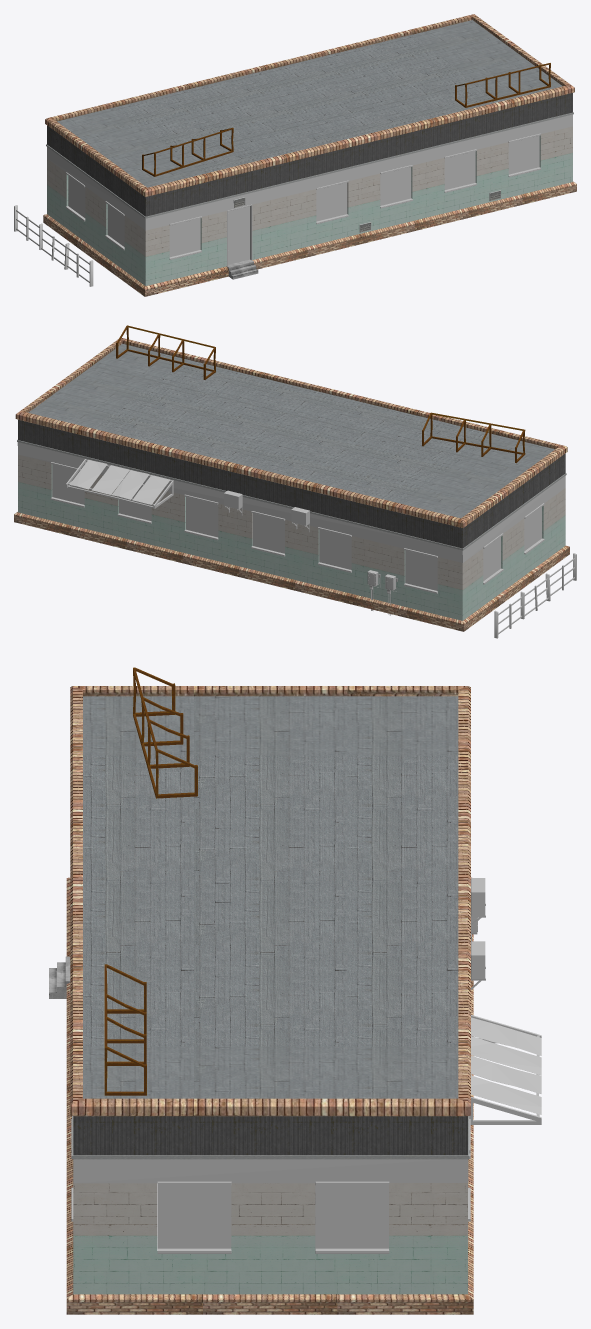
The model's file is building01.fbx.
3 views of the same model, one above another, from view 1: azimuth 30°, elevation 25°; view 2: azimuth 150°, elevation 25°; view 3: azimuth 270°, elevation 25° (orthographic). The views are drawn at different scales.
Visible parts, largest first — view 1: building_Roof, buildingMainwalls, mossDecal, wallbaseboard, industrialDoor, metalFrame, industrialWindow-Small.003, industrialWindow-Small.002, industrialWindow-Small, industrialWindow-Small.001, industrialWindow-Small.010, emptyBillboard.001 (+5 smaller); view 2: building_Roof, buildingMainwalls, wallbaseboard, mossDecal, metalFrame, industrialWindow-Small.006, industrialWindow-Small.007, industrialWindow-Small.008, industrialWindow-Small.009, emptyBillboard.001, emptyBillboard, industrialWindow-Small.004 (+9 smaller); view 3: building_Roof, buildingMainwalls, wallbaseboard, mossDecal, industrialWindow-Small.013, industrialWindow-Small.014, emptyBillboard, metalFrame, emptyBillboard.001, metalSheet.002, metalSheet, metalSheet.003 (+2 smaller).
Boxes of the visible parts, <box> form: building_Roof: <box>45,14,574,197</box>; buildingMainwalls: <box>47,93,572,285</box>; mossDecal: <box>47,114,572,230</box>; wallbaseboard: <box>43,181,576,296</box>; industrialDoor: <box>227,204,252,266</box>; metalFrame: <box>46,112,573,218</box>; industrialWindow-Small.003: <box>508,133,540,177</box>; industrialWindow-Small.002: <box>444,149,476,192</box>; industrialWindow-Small: <box>316,180,348,224</box>; industrialWindow-Small.001: <box>380,165,412,208</box>; industrialWindow-Small.010: <box>169,216,201,259</box>; emptyBillboard.001: <box>455,63,550,107</box>; building_Roof: <box>15,338,567,527</box>; buildingMainwalls: <box>18,419,565,620</box>; wallbaseboard: <box>14,512,569,631</box>; mossDecal: <box>17,442,565,562</box>; metalFrame: <box>17,439,566,550</box>; industrialWindow-Small.006: <box>184,494,218,540</box>; industrialWindow-Small.007: <box>251,511,285,556</box>; industrialWindow-Small.008: <box>318,527,351,572</box>; industrialWindow-Small.009: <box>404,548,437,593</box>; emptyBillboard.001: <box>116,325,215,379</box>; emptyBillboard: <box>422,412,525,463</box>; industrialWindow-Small.004: <box>50,462,84,507</box>; building_Roof: <box>70,686,470,1116</box>; buildingMainwalls: <box>73,1116,467,1294</box>; wallbaseboard: <box>66,877,473,1314</box>; mossDecal: <box>73,1159,468,1183</box>; industrialWindow-Small.013: <box>157,1181,231,1253</box>; industrialWindow-Small.014: <box>315,1181,389,1253</box>; emptyBillboard: <box>133,667,197,798</box>; metalFrame: <box>72,1116,469,1159</box>; emptyBillboard.001: <box>104,964,146,1095</box>; metalSheet.002: <box>471,1075,541,1114</box>; metalSheet: <box>471,1036,541,1075</box>; metalSheet.003: <box>471,1055,541,1093</box>.
Size of the model in its own units: 2168 by 571 by 999.
